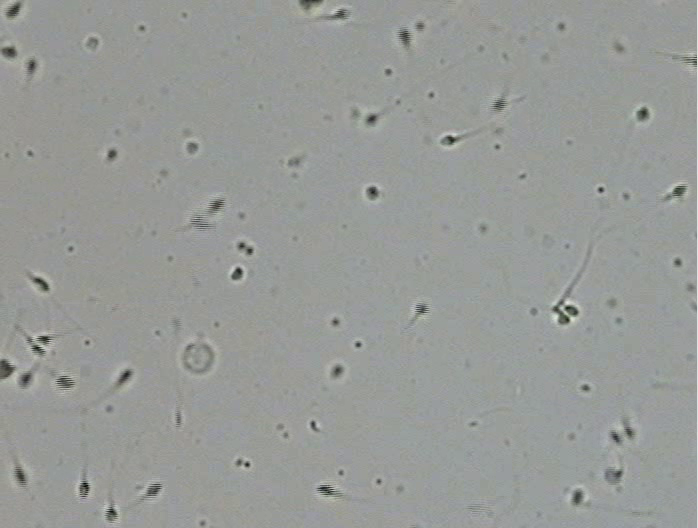Impurity: (182, 343, 215, 375), (86, 37, 99, 50)
S: (25, 337, 47, 357), (30, 275, 50, 293), (189, 214, 210, 231), (12, 466, 28, 488), (604, 467, 623, 485), (207, 197, 225, 215), (1, 358, 15, 381), (55, 376, 76, 391), (17, 372, 34, 389), (5, 2, 21, 20), (396, 27, 412, 45), (315, 484, 338, 496), (116, 369, 132, 386), (105, 506, 119, 524), (78, 480, 90, 500), (331, 8, 351, 20), (491, 97, 507, 112), (635, 106, 650, 122), (570, 488, 584, 505), (146, 483, 162, 497), (24, 59, 37, 76), (35, 335, 54, 346), (298, 1, 324, 9), (1, 46, 18, 58), (366, 186, 380, 200), (622, 425, 636, 439), (608, 430, 622, 444), (672, 184, 687, 197), (439, 135, 456, 146), (564, 304, 579, 316), (231, 266, 243, 280), (415, 302, 429, 314), (365, 113, 377, 126), (186, 142, 198, 154), (331, 365, 343, 377), (106, 149, 118, 160), (558, 313, 570, 324), (687, 55, 697, 67)
